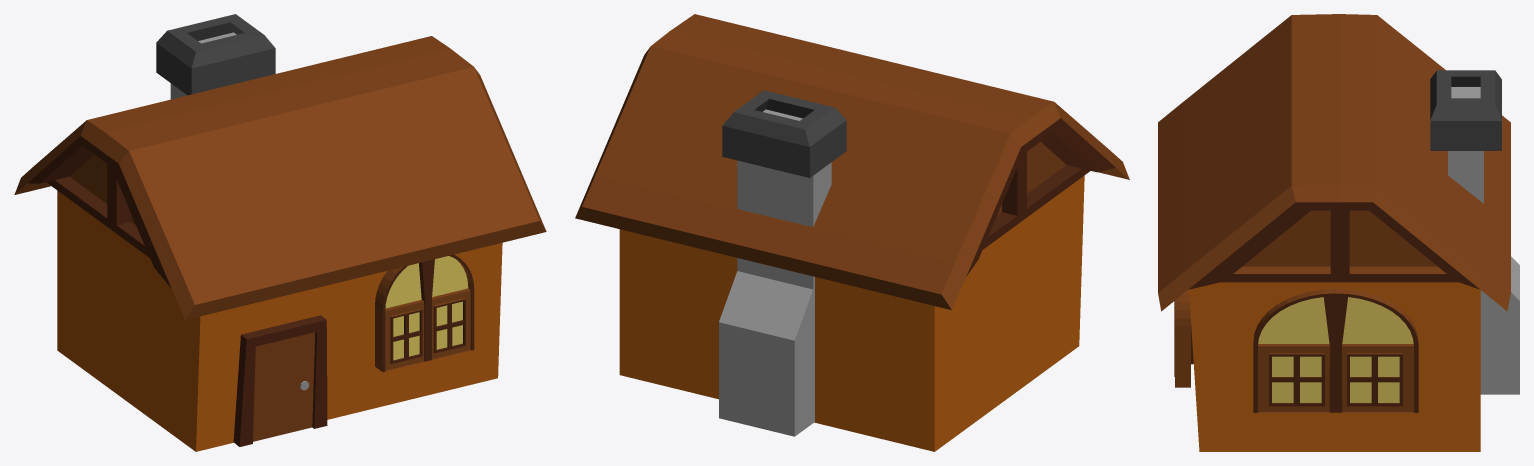
Rendered from SagradoCasaLaranja.fbx.
The picture shows the model from 3 angles, left to right: view 1: azimuth 30°, elevation 25°; view 2: azimuth 150°, elevation 25°; view 3: azimuth 270°, elevation 25°; orthographic projection. The views are drawn at different scales.
Parts seen in each view (by area): view 1: CasaLaranja; view 2: CasaLaranja; view 3: CasaLaranja.
Boxes of the visible parts, x1=… form: CasaLaranja: x1=14, y1=14, x2=546, y2=451; CasaLaranja: x1=575, y1=14, x2=1129, y2=451; CasaLaranja: x1=1158, y1=14, x2=1519, y2=451.
Size of the model in its own units: 1178 by 890 by 1007.
